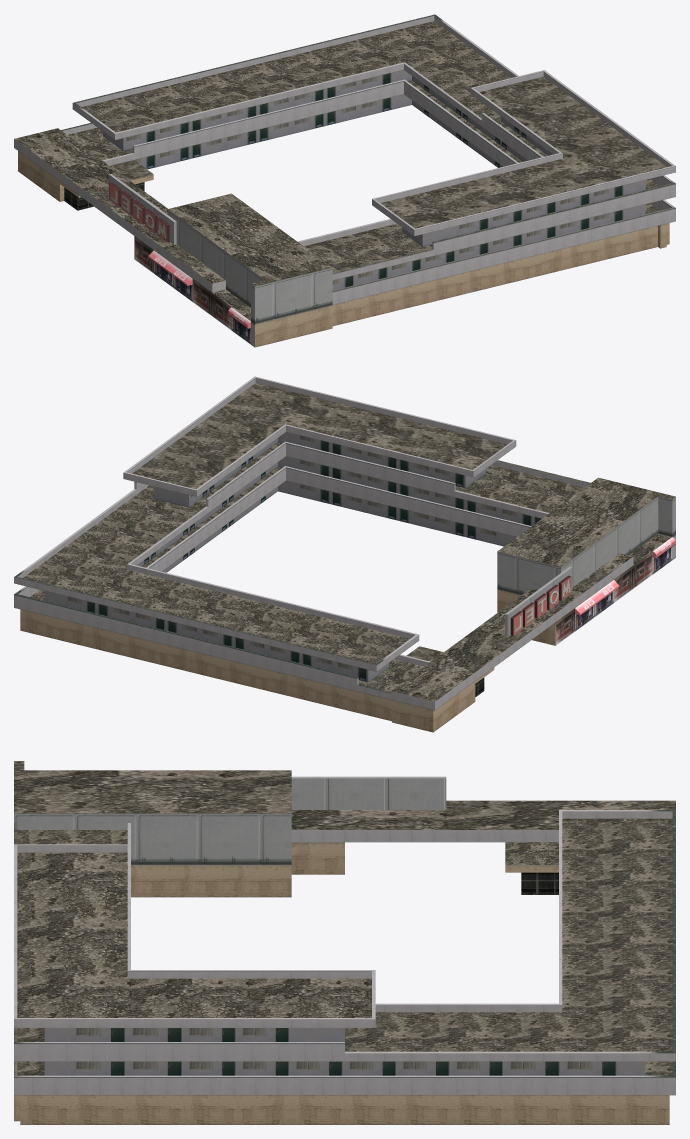
Rendered from tamomotel1.obj.
3 renders of one model, top to bottom at view 1: azimuth 30°, elevation 25°; view 2: azimuth 150°, elevation 25°; view 3: azimuth 270°, elevation 25°, orthographic. The views are drawn at different scales.
Parts seen in each view (by area): view 1: tamomotel1; view 2: tamomotel1; view 3: tamomotel1.
Boxes of the visible parts, <box> form: tamomotel1: <box>14,14,675,347</box>; tamomotel1: <box>14,376,675,732</box>; tamomotel1: <box>14,761,675,1124</box>.
Size of the model in its own units: 50.64 by 8.91 by 49.53.
Materials: 11 (11 with a texture image).
